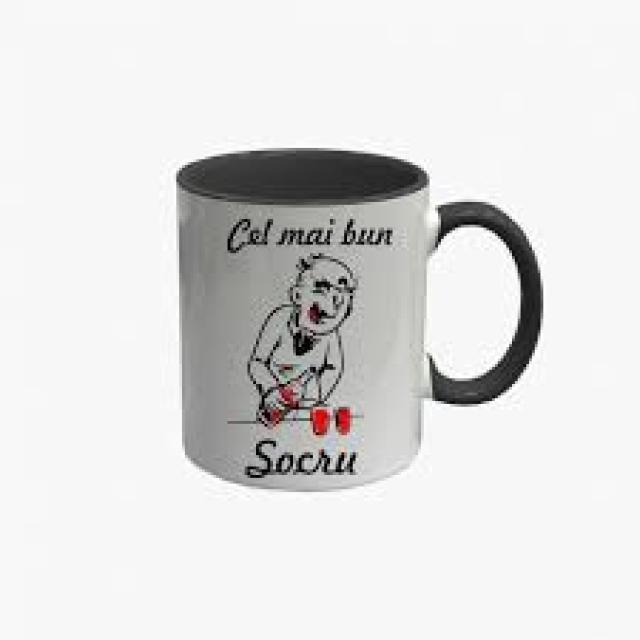taza: (164, 129, 555, 505)
